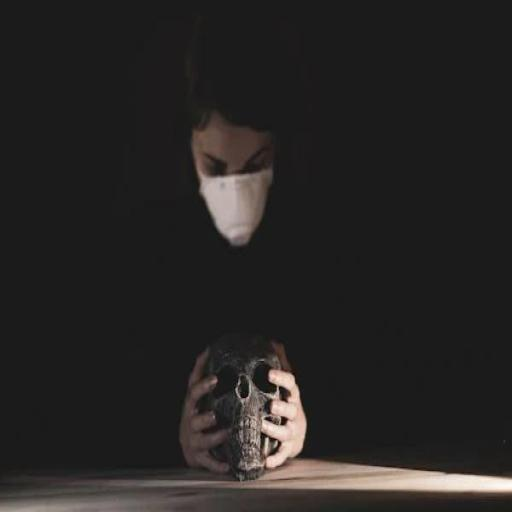mask: (174, 68, 289, 274)
